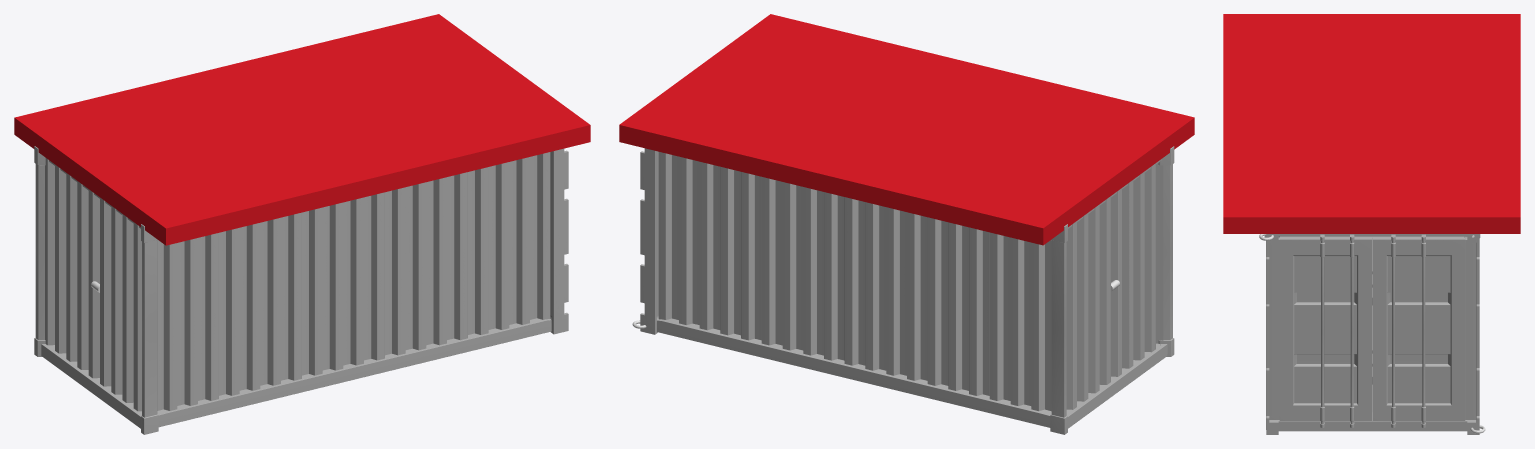
File: Container_big.fbx
3 renders of one model, left to right at view 1: azimuth 30°, elevation 25°; view 2: azimuth 150°, elevation 25°; view 3: azimuth 270°, elevation 25°, orthographic.
Visible parts, largest first — view 1: Cube.047, Plane.005, Plane.003, Plane.004, Cube.072, Cube.078; view 2: Cube.047, Plane.005, Plane.003, Plane.004, Cube.072, Cube.078; view 3: Cube.047, Plane.001, Cube.078, Cylinder.001, Plane.004, top.001.
Part boxes in pixels (bbox=[...]): Cube.047: bbox=[14, 14, 590, 245]; Plane.005: bbox=[157, 152, 550, 410]; Plane.003: bbox=[45, 158, 141, 411]; Plane.004: bbox=[41, 318, 551, 428]; Cube.072: bbox=[34, 146, 158, 434]; Cube.078: bbox=[550, 148, 568, 334]; Cube.047: bbox=[619, 14, 1194, 245]; Plane.005: bbox=[658, 152, 1160, 411]; Plane.003: bbox=[1066, 163, 1163, 409]; Plane.004: bbox=[657, 318, 1167, 428]; Cube.072: bbox=[1050, 146, 1174, 434]; Cube.078: bbox=[640, 148, 658, 334]; Cube.047: bbox=[1223, 14, 1520, 233]; Plane.001: bbox=[1279, 237, 1465, 420]; Cube.078: bbox=[1266, 234, 1479, 434]; Cylinder.001: bbox=[1320, 234, 1425, 427]; Plane.004: bbox=[1278, 236, 1467, 431]; top.001: bbox=[1278, 234, 1467, 236].
Bounding box in the file's own units: 742 × 364 × 450.
